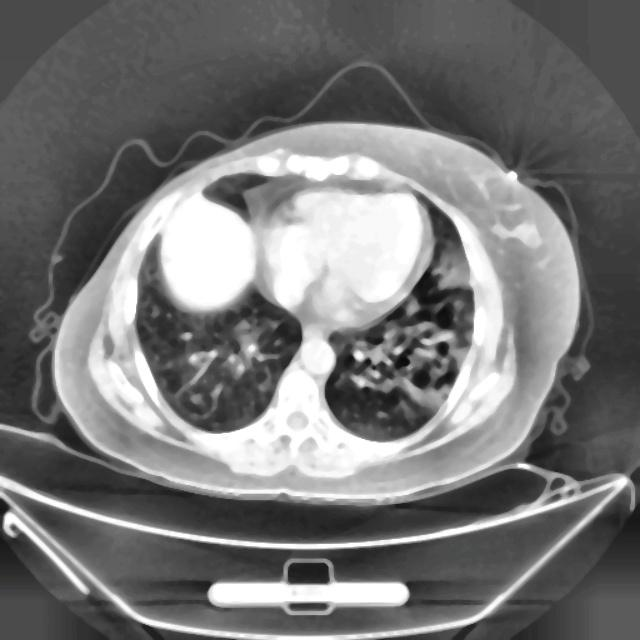covid: (49, 118, 581, 504)
